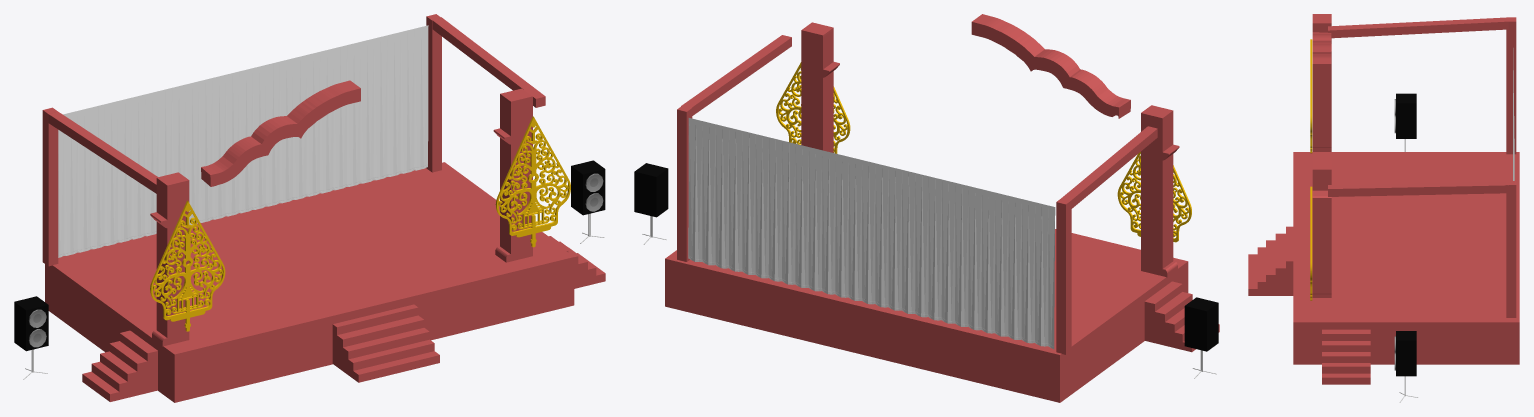
File: stage.glb
The picture shows the model from 3 angles, left to right: view 1: azimuth 30°, elevation 25°; view 2: azimuth 150°, elevation 25°; view 3: azimuth 270°, elevation 25°; orthographic projection. The views are drawn at different scales.
Visible parts, largest first — view 1: Box001, Stage Curtains, Box3884, Curve.001, Curve.002, Cube.001, Cube.002, Cube.003, Box653, Cube.004, Cube, Cube.006 (+4 smaller); view 2: Stage Curtains, Box001, Cube.003, Cube.001, Cube.002, Box653, Cube.004, Cube, Cube.006, Curve.001, Curve.002, Cube.005 (+2 smaller); view 3: Box001, Box652, Cube.002, Box3884, Cube.006, Cube.005, Cube.003, Cube, Cube.004, Box3905, Box3885, Cube.001 (+2 smaller).
Boxes of the visible parts, x1,y1,x2,y2 form: Box001: (45,162,574,402); Stage Curtains: (58,25,428,257); Box3884: (332,304,439,382); Curve.001: (150,200,225,331); Curve.002: (495,116,570,247); Cube.001: (201,80,360,186); Cube.002: (493,88,532,262); Cube.003: (150,172,189,346); Box653: (82,330,157,401); Cube.004: (42,107,58,266); Cube: (426,14,441,172); Cube.006: (432,17,545,107); Stage Curtains: (688,118,1055,349); Box001: (665,229,1188,402); Cube.003: (1141,105,1179,277); Cube.001: (971,14,1130,118); Cube.002: (801,22,839,152); Box653: (1144,281,1219,352); Cube.004: (1056,198,1071,354); Cube: (677,105,692,261); Cube.006: (681,35,791,115); Curve.001: (1117,152,1191,242); Curve.002: (776,62,850,153); Cube.005: (1062,126,1157,208); Box001: (1293,152,1519,364); Box652: (1322,329,1370,384); Cube.002: (1312,160,1331,297); Box3884: (1248,226,1293,295); Cube.006: (1328,181,1508,196); Cube.005: (1328,17,1508,38); Cube.003: (1312,14,1331,151); Cube: (1506,181,1516,317); Cube.004: (1506,17,1516,154); Box3905: (1396,331,1416,376); Box3885: (1396,93,1416,138); Cube.001: (1312,32,1331,63).
Bounding box in the file's own units: 6.93 × 2.94 × 3.21.
